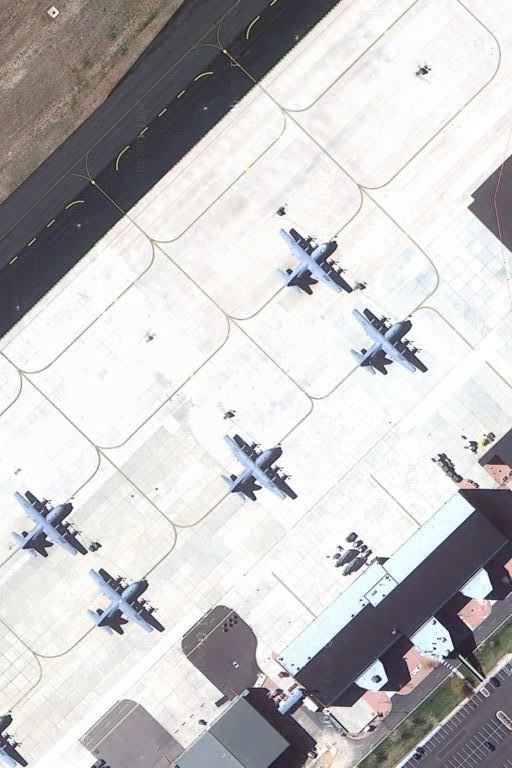C-130: (7, 488, 90, 557), (275, 227, 348, 303), (221, 433, 295, 504), (345, 309, 420, 379), (83, 569, 158, 639)
